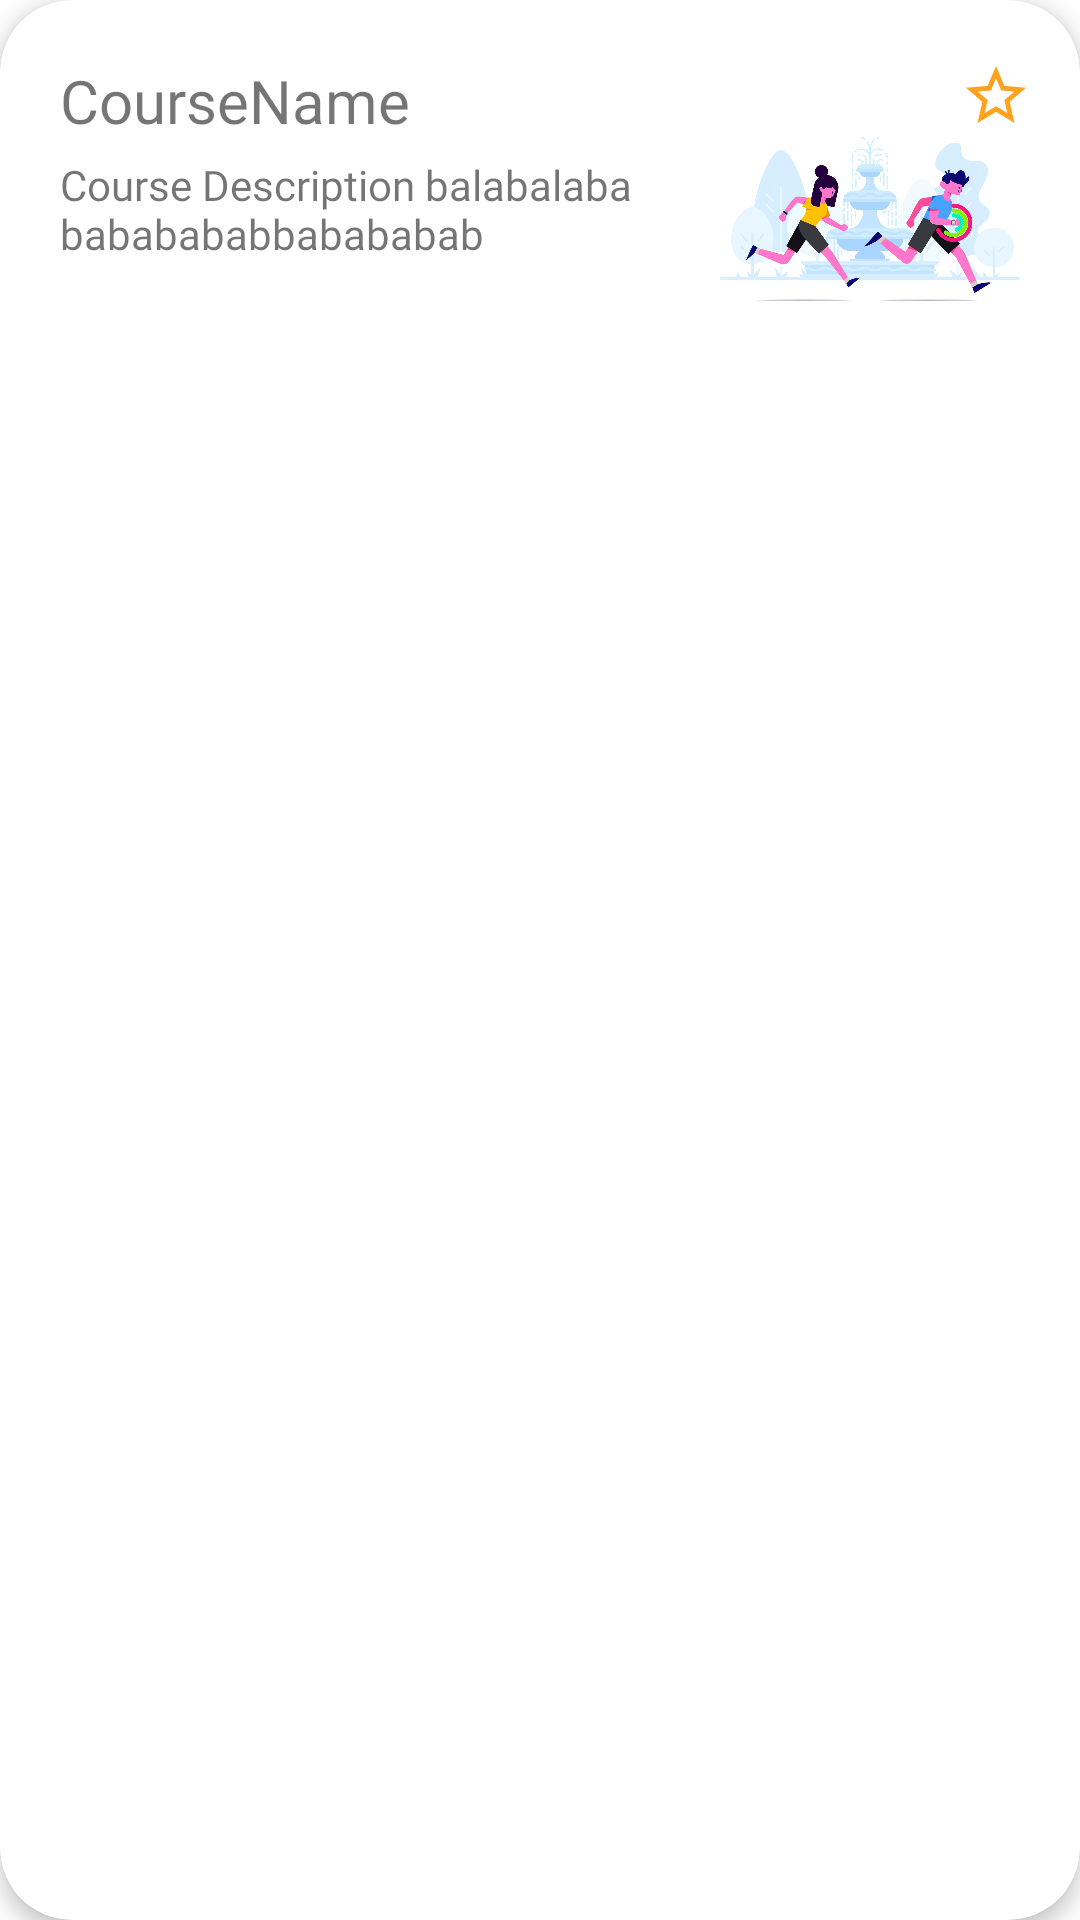

Point at icon controls on the screen. Image size 1080px×1920px, points as [x,y].
star border: [996,94]
